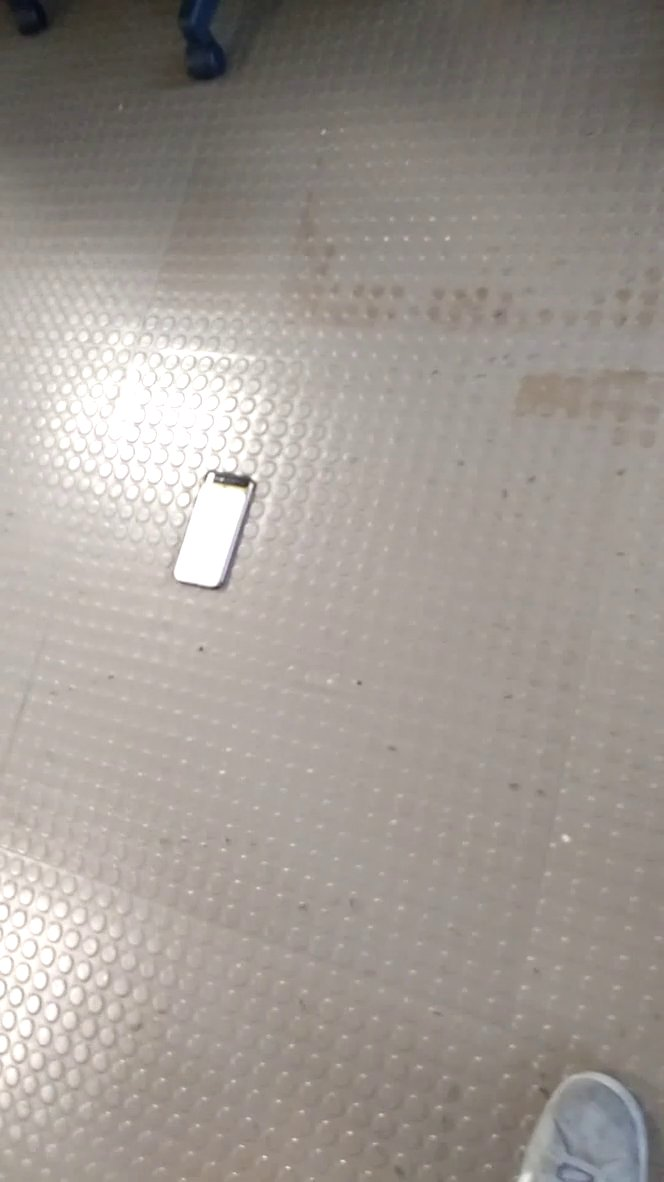phone: (158, 457, 271, 600)
